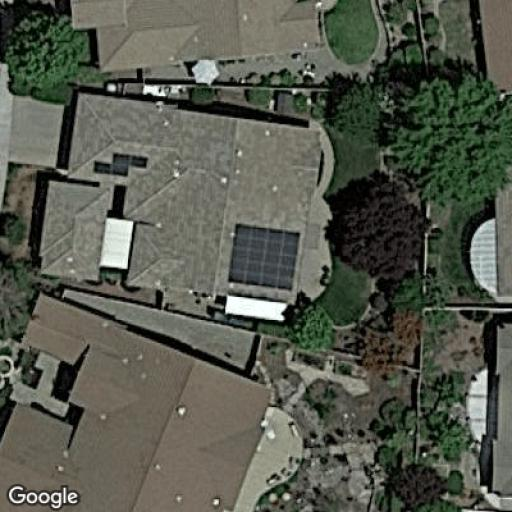solar-panel: (225, 220, 302, 293), (90, 148, 150, 179)
